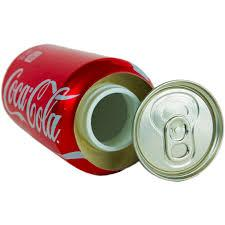Aluminum can: (0, 29, 225, 199)
